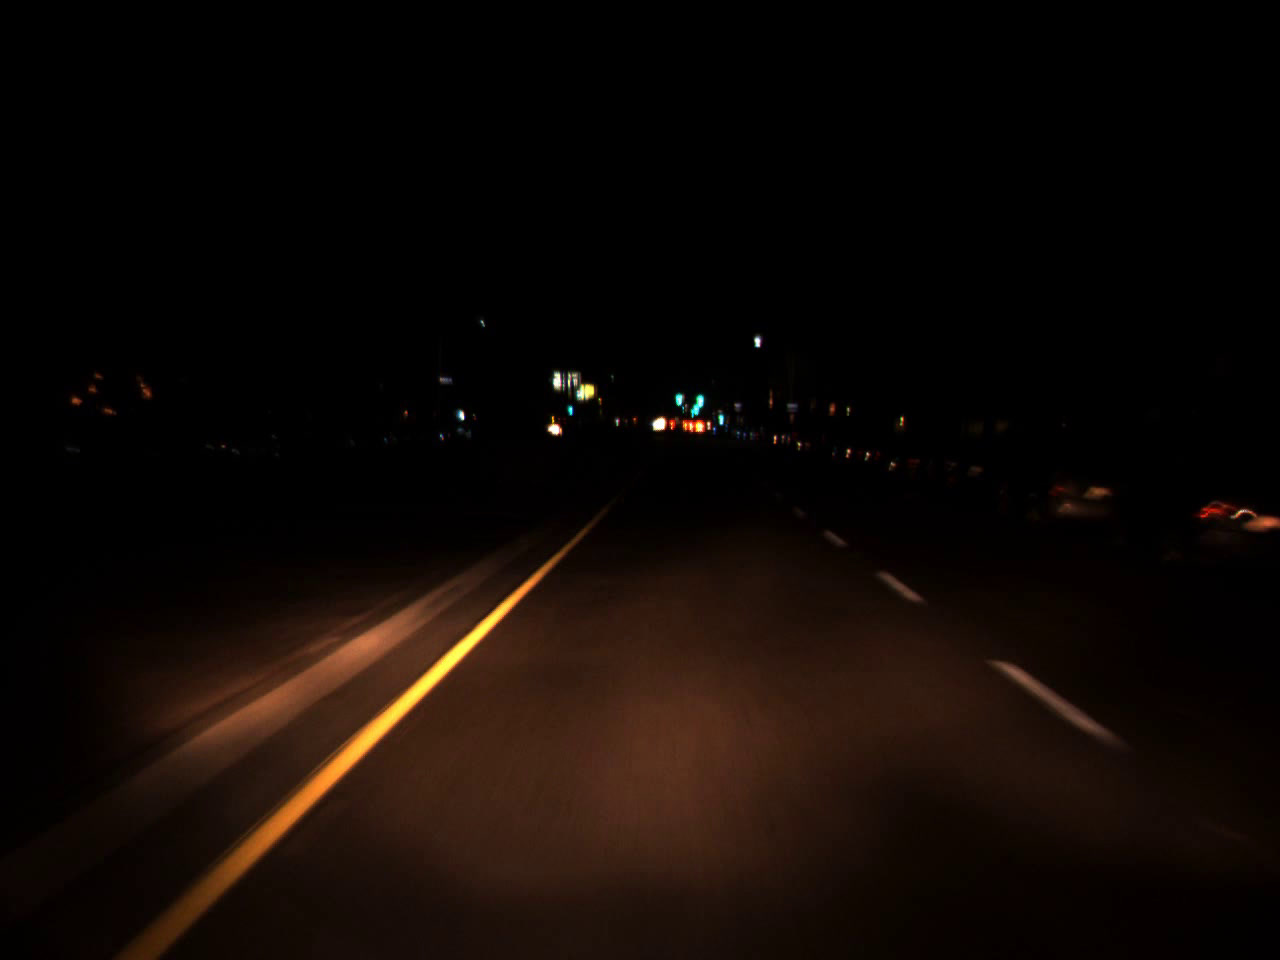go: (688, 395, 702, 419), (673, 380, 683, 410), (695, 385, 703, 406), (717, 404, 724, 428), (566, 396, 573, 417)
